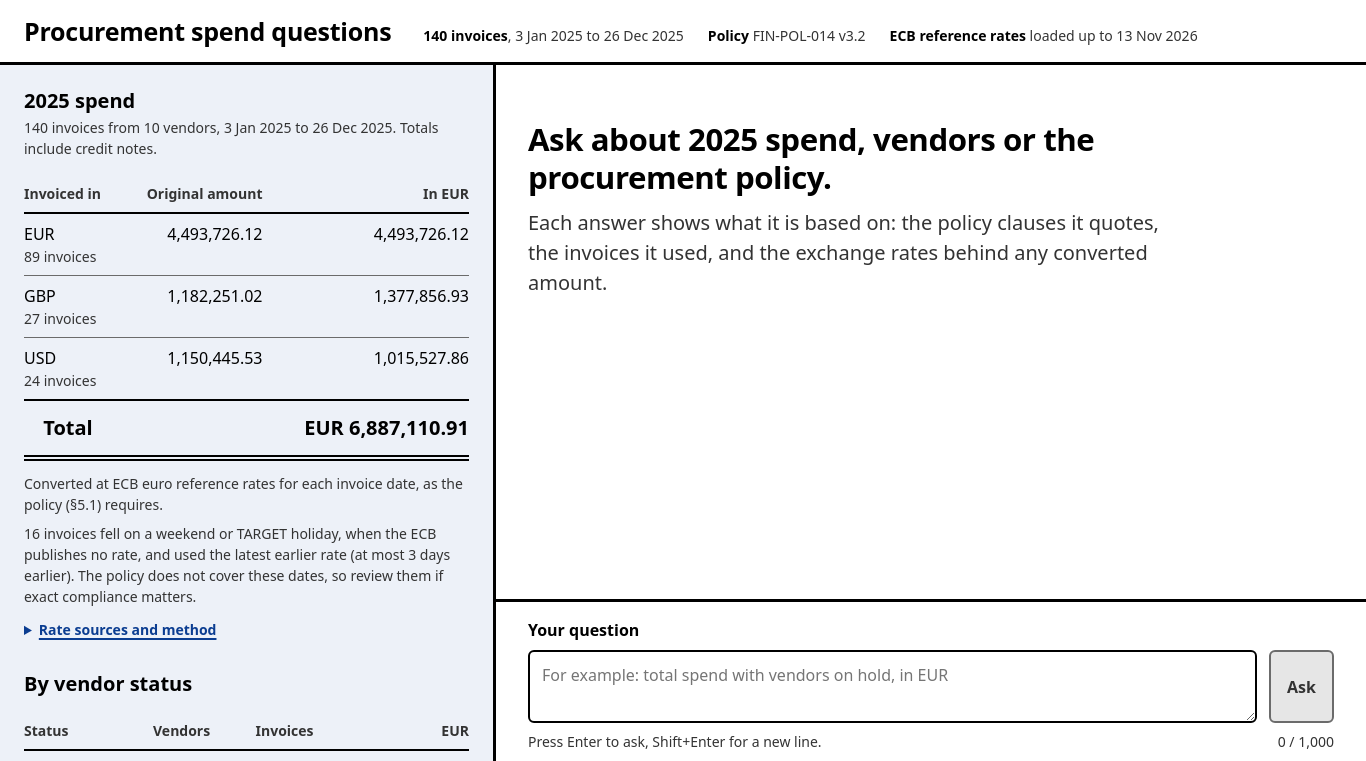
Test: asking questions › explains a network failure and retries
The image size is (1366, 761).
Type "Who approves EUR 60,000?" into the text box labelled "Your question". click: (893, 687)
box: 528,650 -> 1257,723
Then press Enter
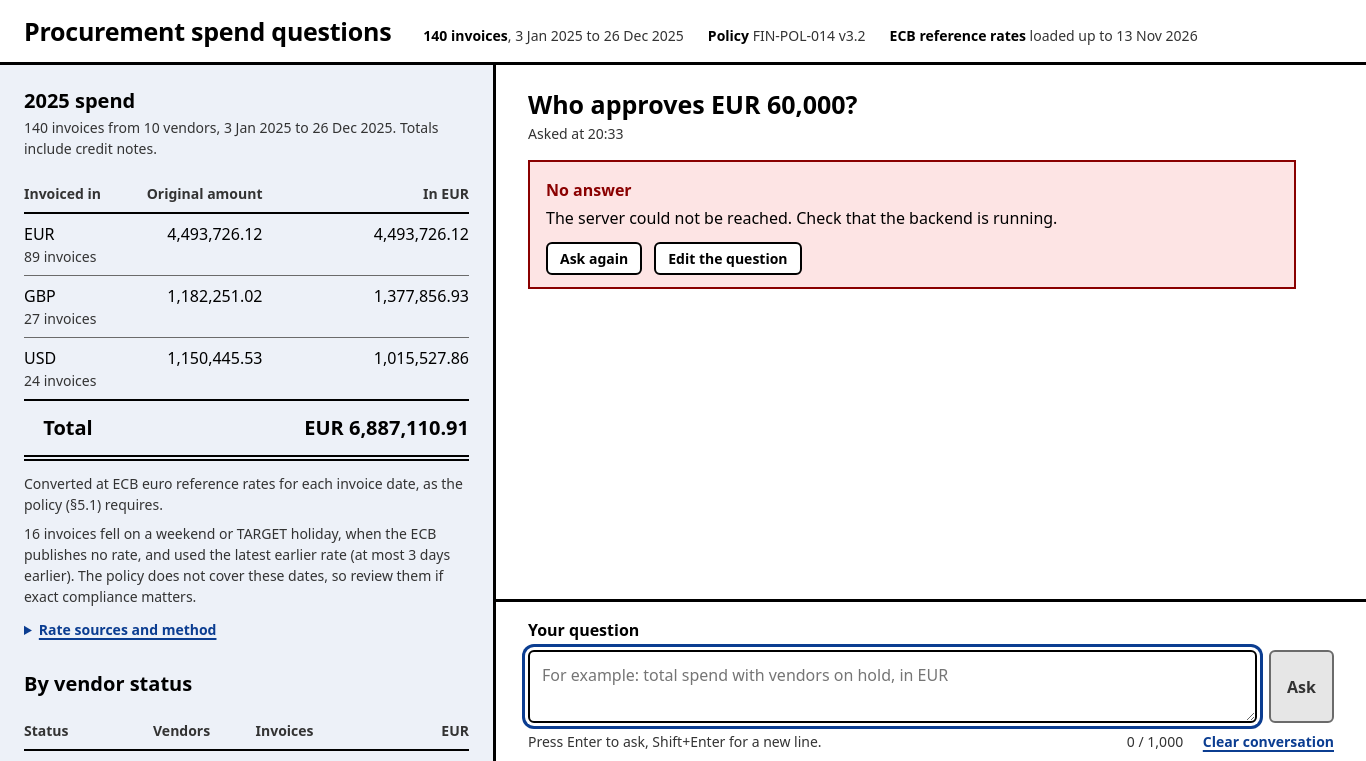
Now the text "could not be reached" is shown, box 546,207 -> 1057,229
Click the button "Ask again". click: (594, 258)
box: 546,242 -> 642,275
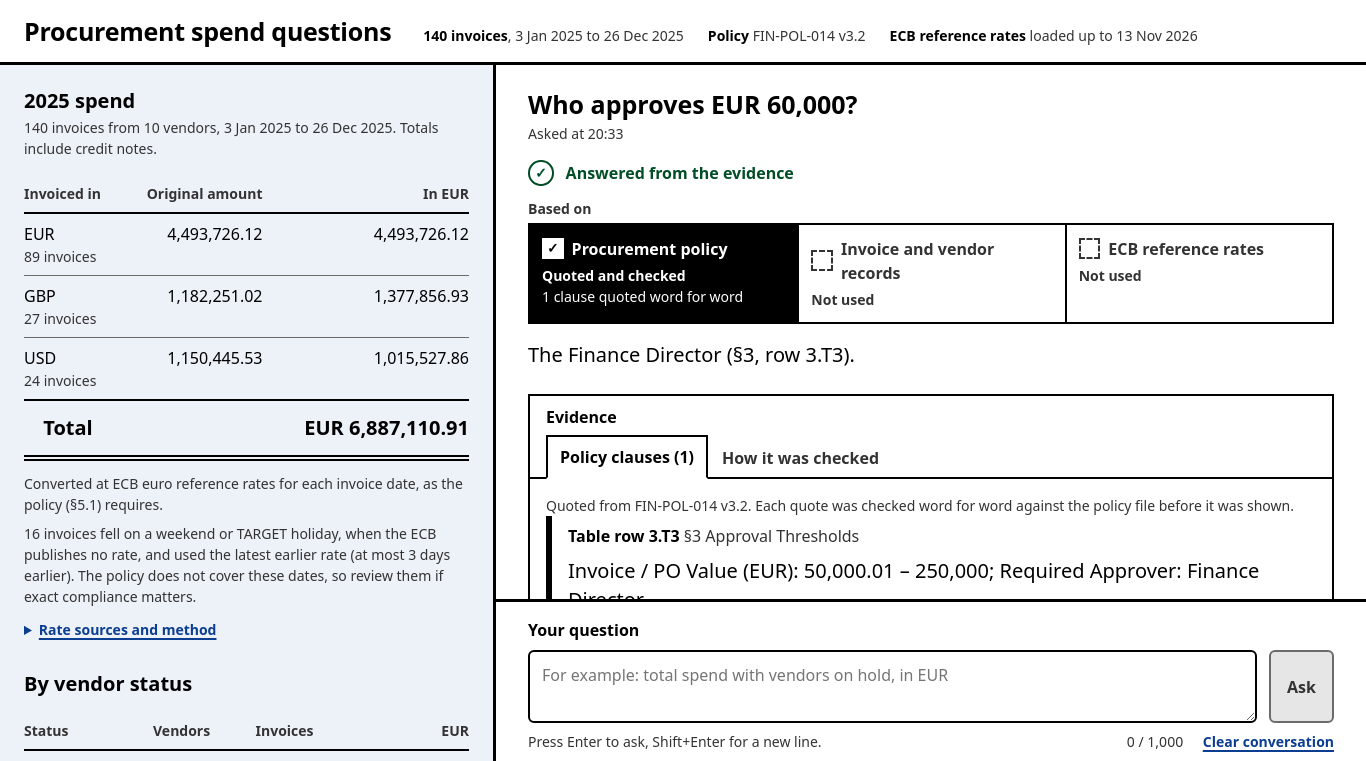
Now the text "Answered from the evidence" is shown, box 566,162 -> 794,184
